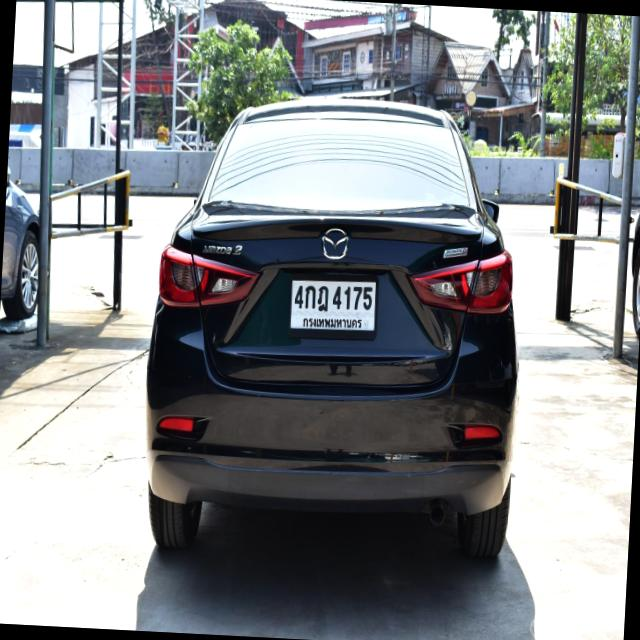license_plate: (286, 270, 382, 341)
